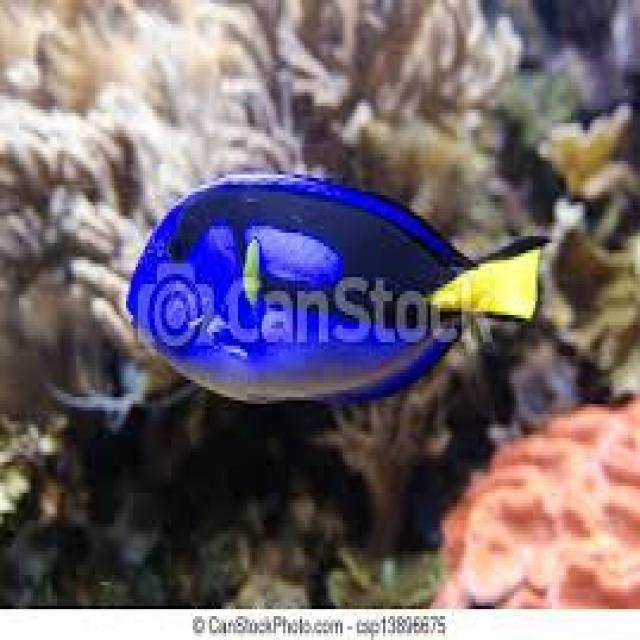BlueTang: (131, 175, 555, 396)
